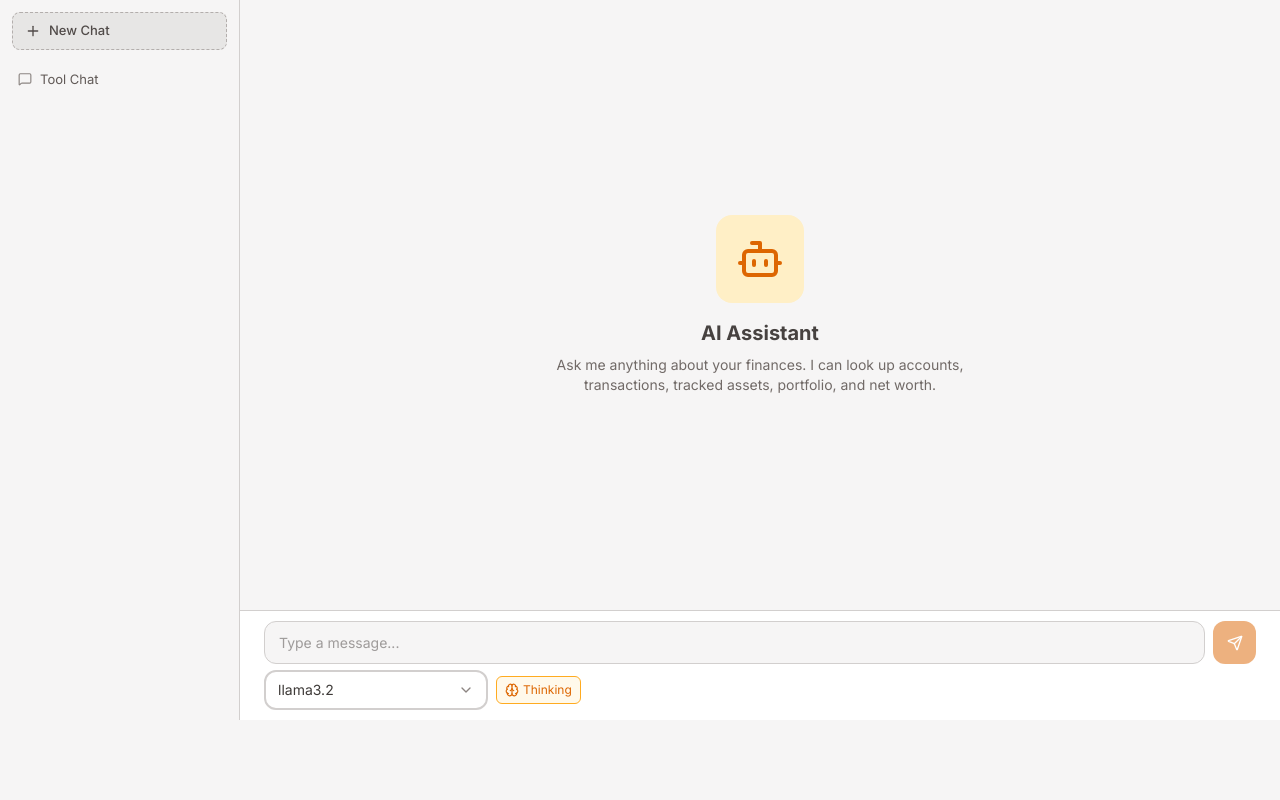
Test: ChatView coverage › renders tool role messages and expands tool output
Click the text "Tool Chat" at (69, 78), box 40,70 -> 98,86
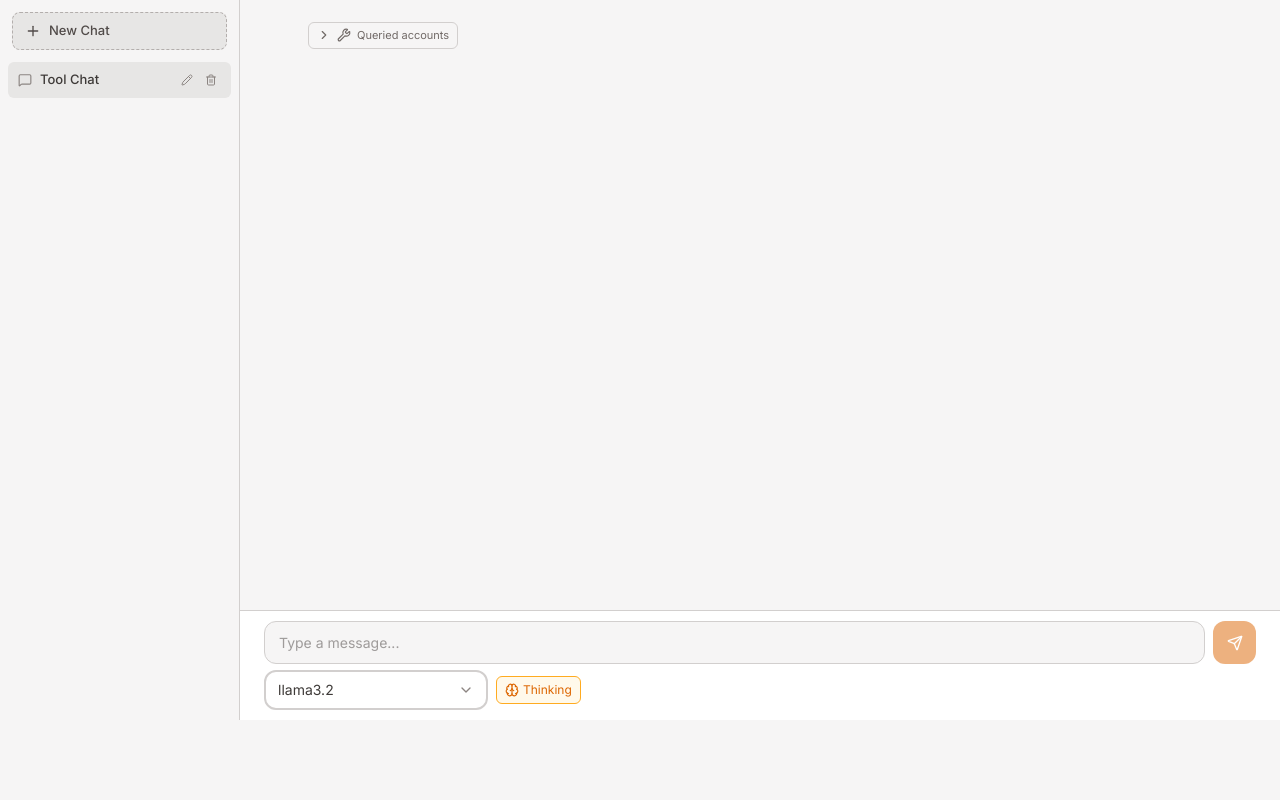
Click the button "Queried accounts" at (383, 35), box 308,22 -> 458,48
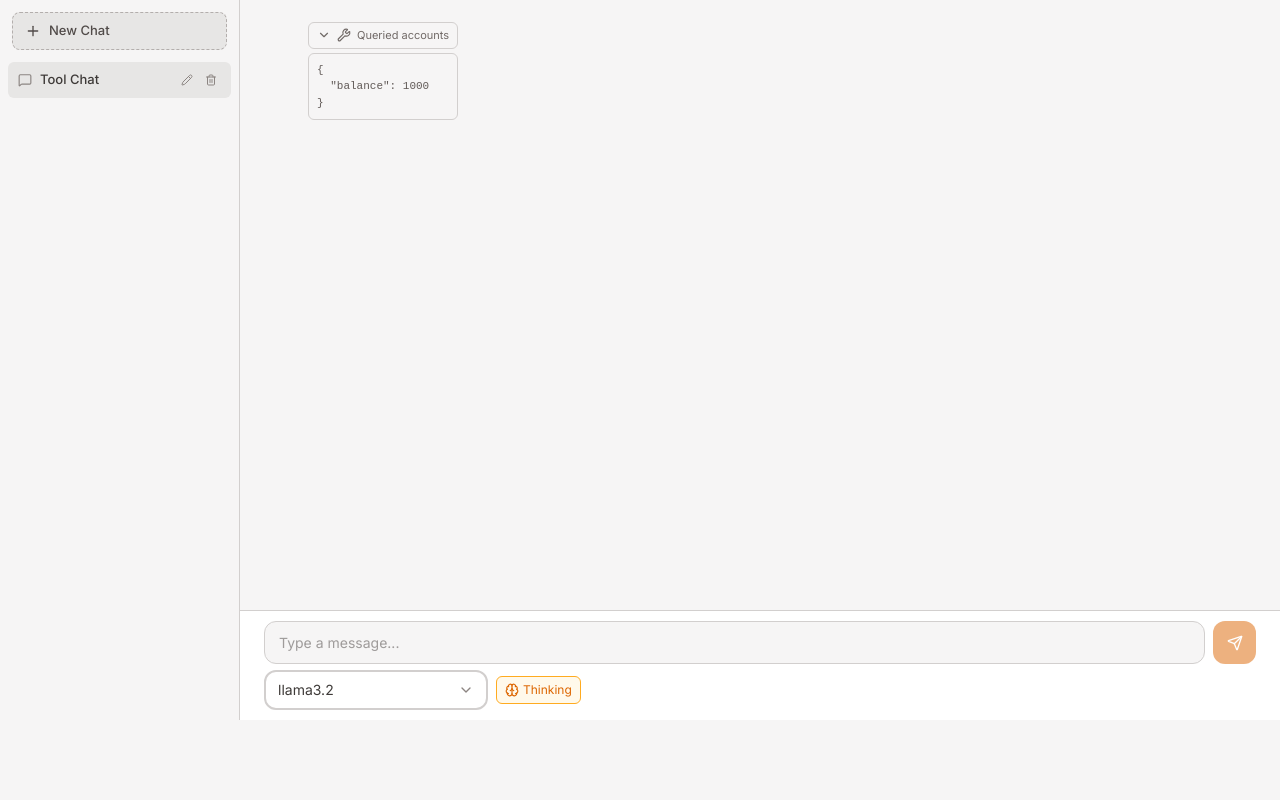
expect the text "{ \"balance\": 1000 }" is shown: met, box 308,52 -> 458,120
